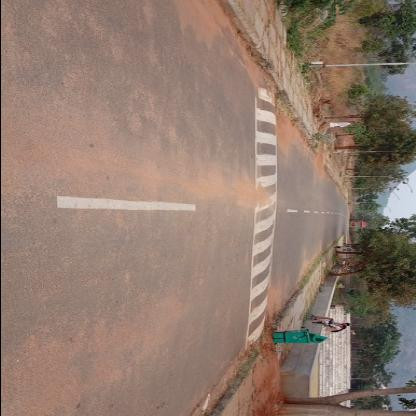speed-bumps: (248, 76, 284, 348)
